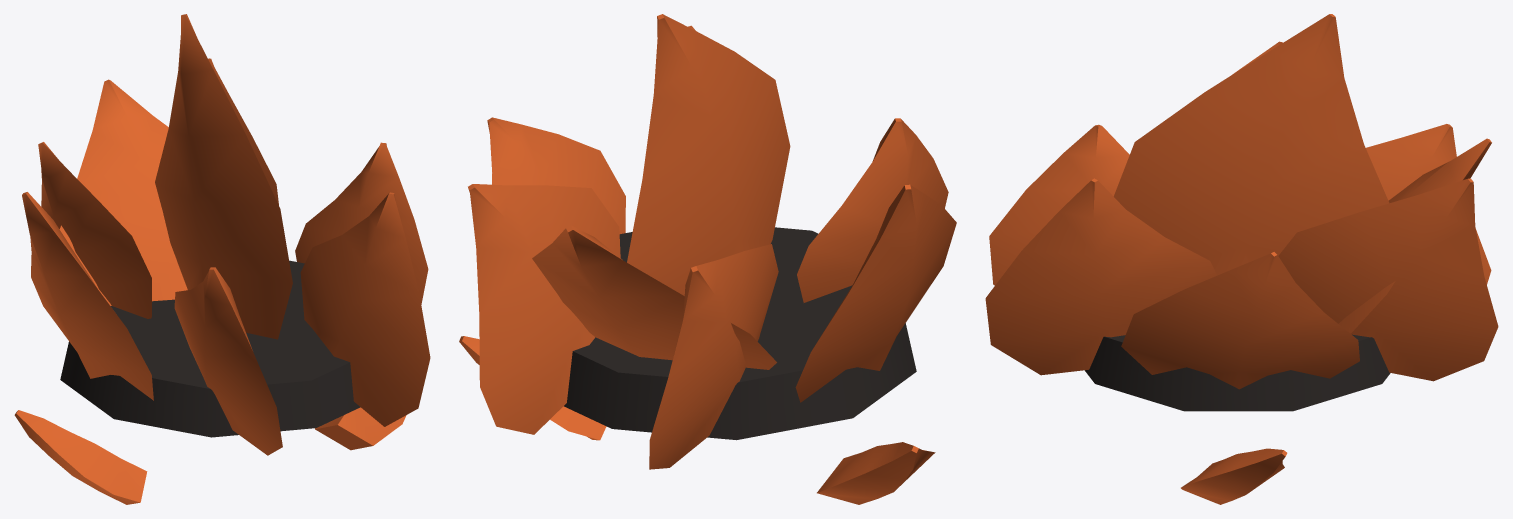
File: brasa_head.fbx
3 views of the same model, side by side, from view 1: azimuth 30°, elevation 25°; view 2: azimuth 150°, elevation 25°; view 3: azimuth 270°, elevation 25° (orthographic). The views are drawn at different scales.
Parts seen in each view (by area): view 1: brasa_head; view 2: brasa_head; view 3: brasa_head.
Part boxes in pixels (<box>): brasa_head: <box>14,14,430,504</box>; brasa_head: <box>459,14,956,504</box>; brasa_head: <box>985,14,1498,504</box>.
Size of the model in its own units: 1.29 by 1.36 by 1.45.
